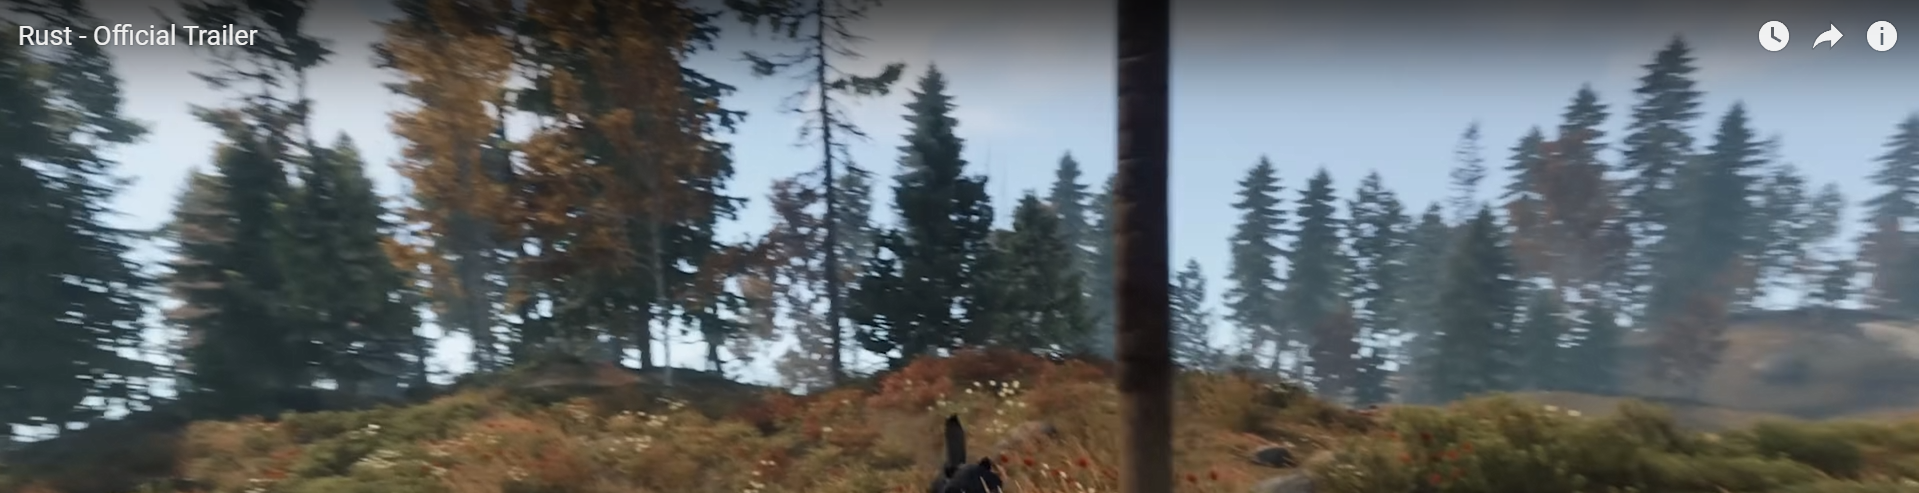tree: (379, 12, 545, 400), (203, 24, 367, 413), (1, 46, 132, 460), (760, 1, 890, 400), (609, 2, 700, 431), (1110, 2, 1186, 493), (982, 139, 1104, 385), (896, 66, 975, 399), (1524, 141, 1624, 402), (1630, 33, 1693, 420), (1276, 166, 1365, 423), (1347, 166, 1425, 411), (810, 1, 853, 399), (1232, 150, 1292, 423), (1432, 210, 1500, 433), (1875, 104, 1919, 292), (647, 214, 672, 385)
